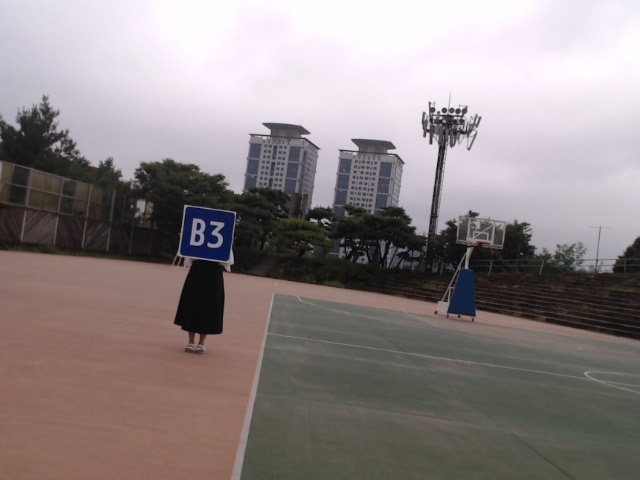delivery_b3: (179, 205, 236, 263)
